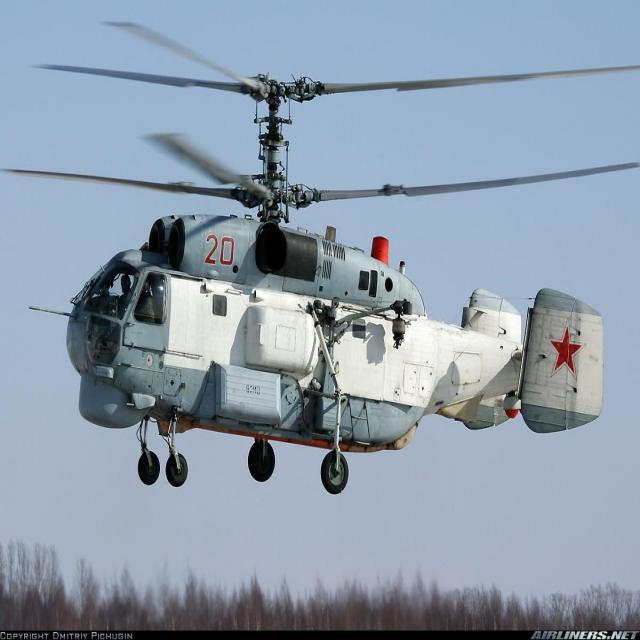MIL_HELO: (10, 7, 633, 507)
